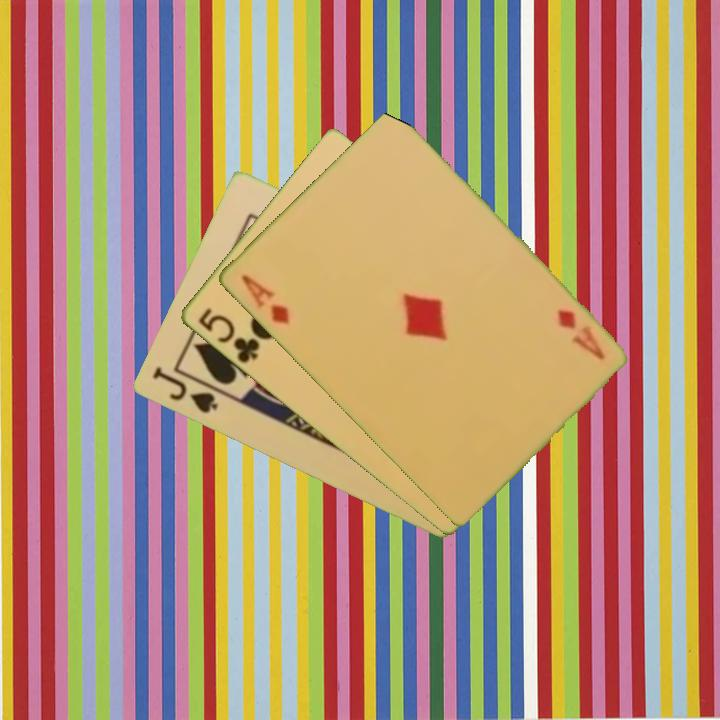5c: (194, 304, 262, 367)
Ad: (236, 271, 292, 328), (553, 305, 607, 364)
Js: (148, 363, 221, 417)
